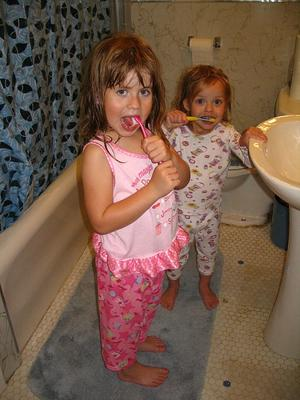person: (82, 33, 192, 388)
